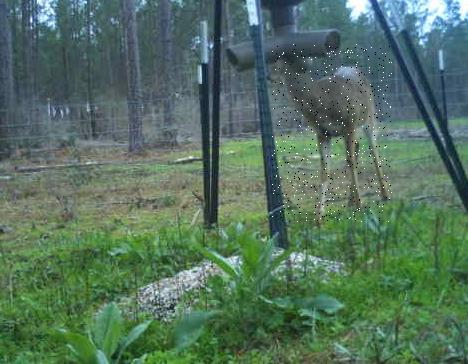Deer: (272, 44, 392, 222)
